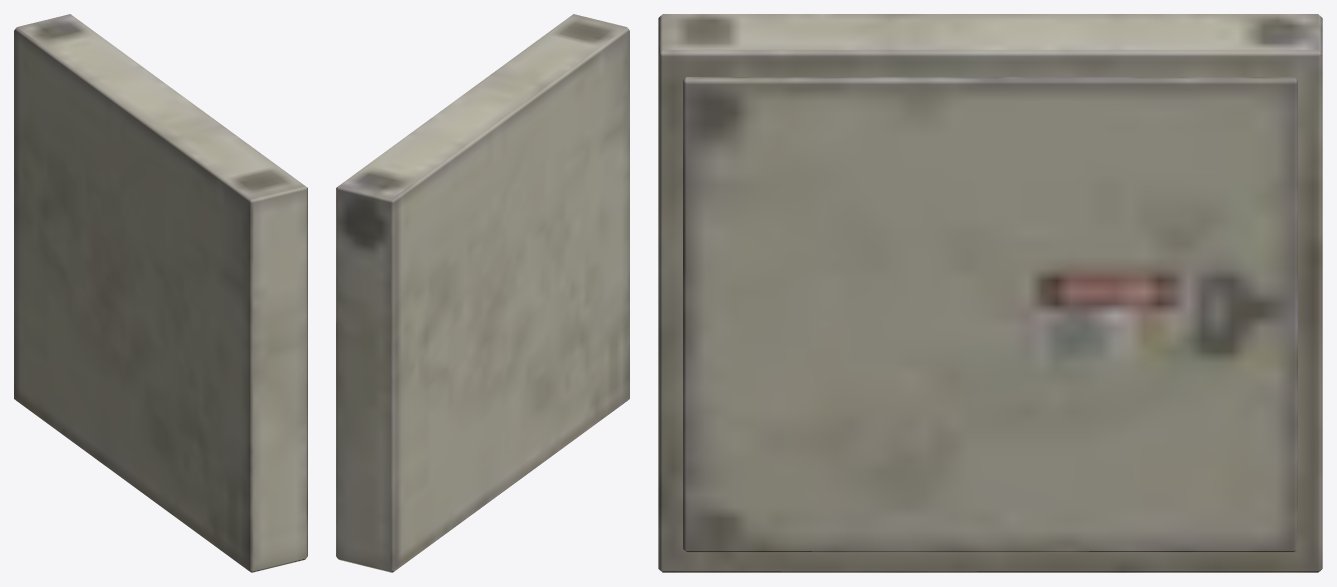
Rendered from electric-box.lod0.glb.
3 views of the same model, side by side, from view 1: azimuth 30°, elevation 25°; view 2: azimuth 150°, elevation 25°; view 3: azimuth 270°, elevation 25° (orthographic). The views are drawn at different scales.
Parts seen in each view (by area): view 1: modular-box-01_electrical boxes_0; view 2: modular-box-01_electrical boxes_0; view 3: modular-box-01_electrical boxes_0.
Boxes of the visible parts, left/top/right/bottom form: modular-box-01_electrical boxes_0: left=14, top=14, right=307, bottom=572; modular-box-01_electrical boxes_0: left=336, top=14, right=629, bottom=572; modular-box-01_electrical boxes_0: left=658, top=14, right=1322, bottom=572.
Bounding box in the file's own units: 0.1092 × 0.6 × 0.6916.
Materials: 1 (1 with a texture image).
